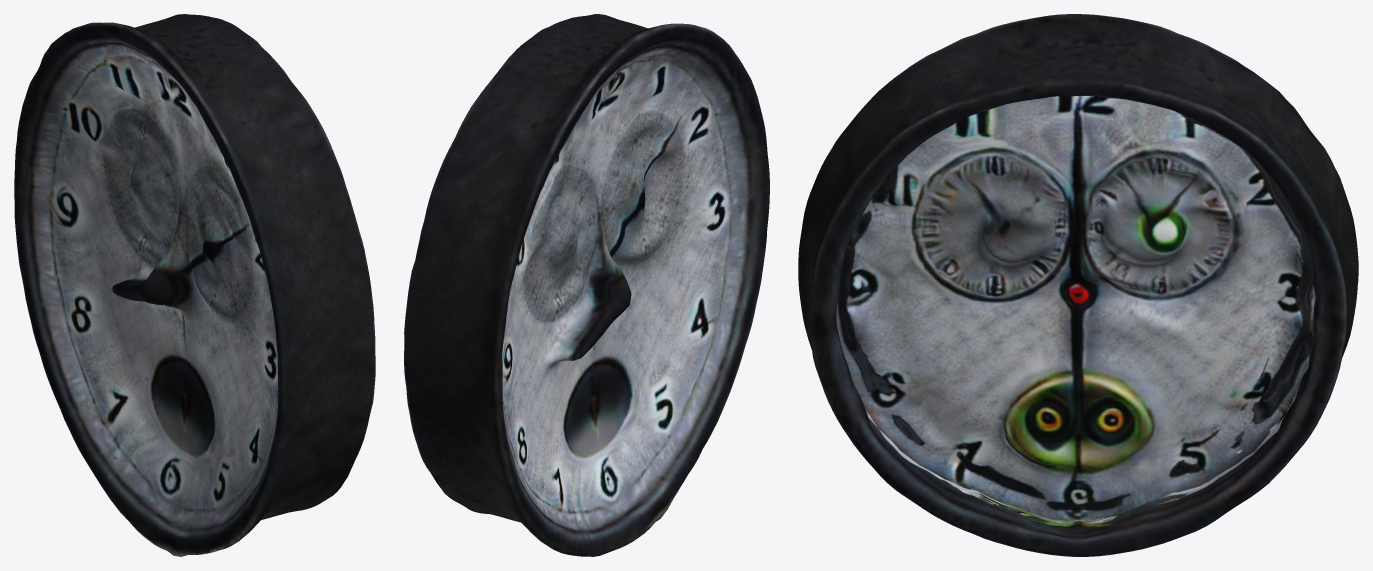
The model's file is clock.glb.
The picture shows the model from 3 angles, left to right: view 1: azimuth 30°, elevation 25°; view 2: azimuth 150°, elevation 25°; view 3: azimuth 270°, elevation 25°; orthographic projection. The views are drawn at different scales.
Visible parts, largest first — view 1: mesh; view 2: mesh; view 3: mesh.
Part boxes in pixels (x1=…): mesh: x1=14, y1=14, x2=375, y2=556; mesh: x1=404, y1=14, x2=769, y2=556; mesh: x1=798, y1=14, x2=1358, y2=556.
Size of the model in its own units: 0.2198 by 0.9981 by 0.985.
1 material, 1 textured.
